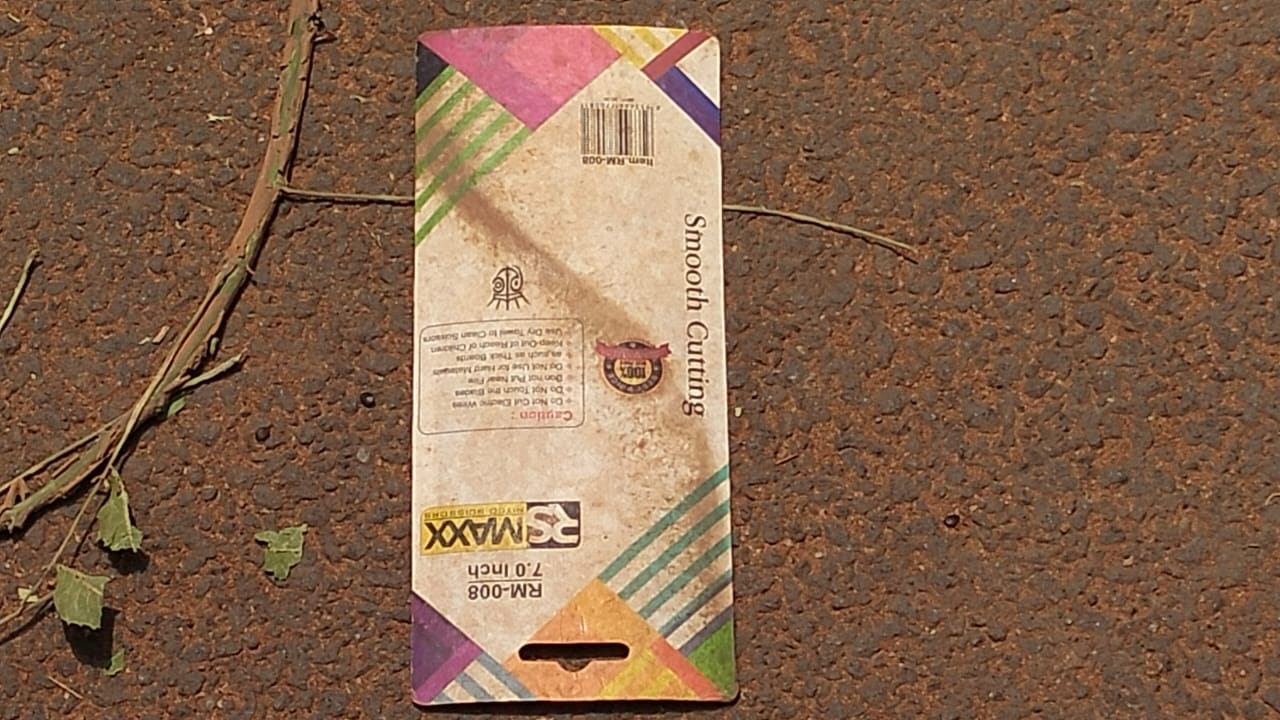paper: (389, 23, 752, 713)
